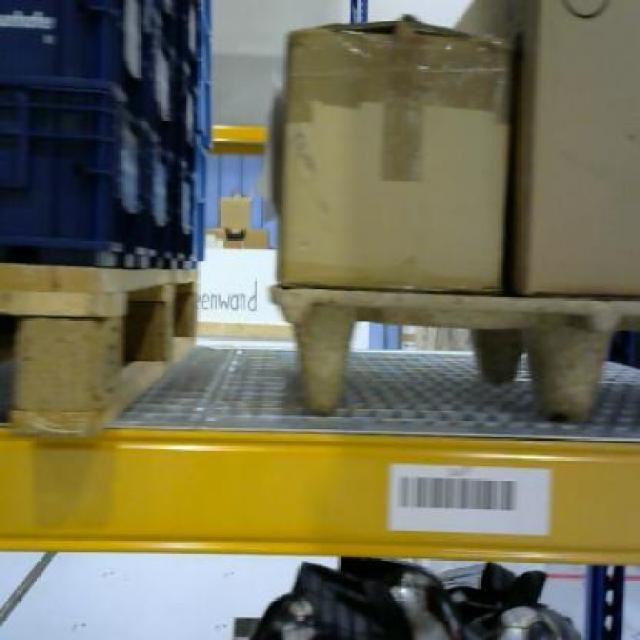box: (268, 16, 512, 292), (526, 0, 640, 288), (218, 193, 250, 230)
